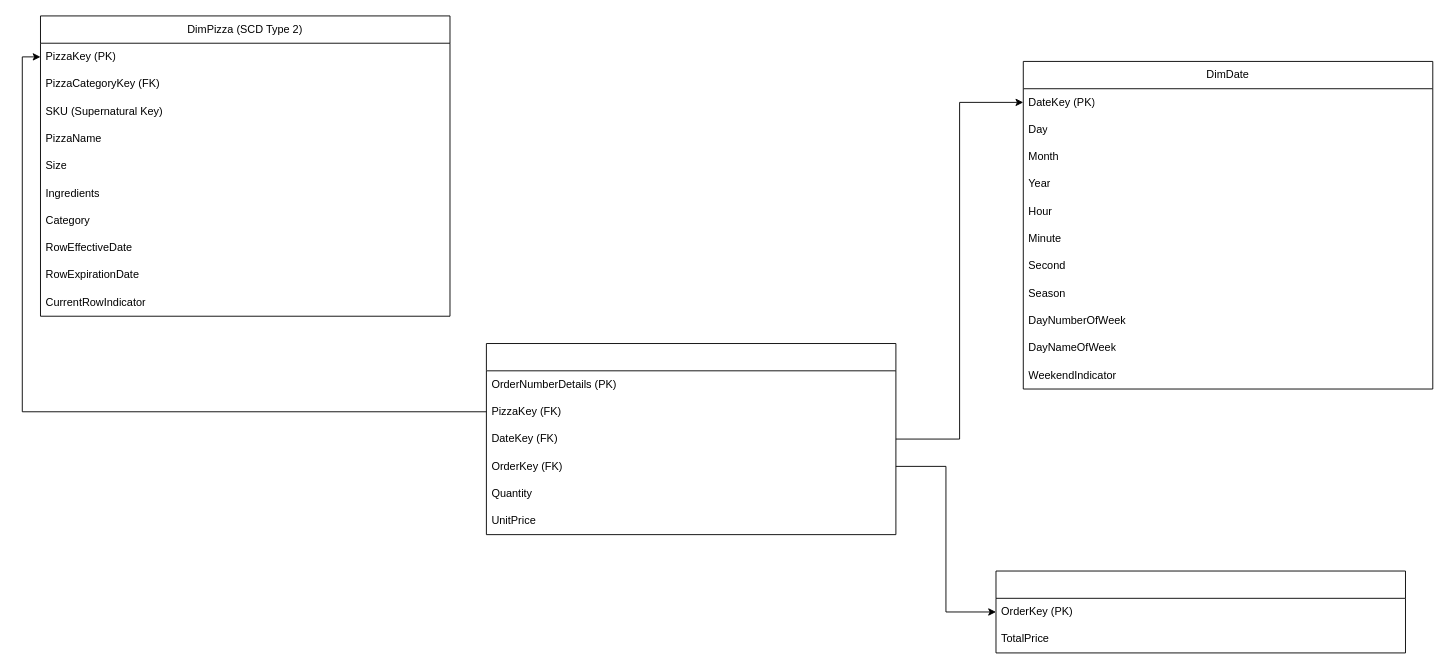
Image size: 1449x669. Some labels were removed from this diagram. Here are the shapes that lost their labels. From the top down, the box of each, then its label:
(485, 343, 896, 535): FactOrdersDetails
(995, 570, 1405, 653): DimOrder
